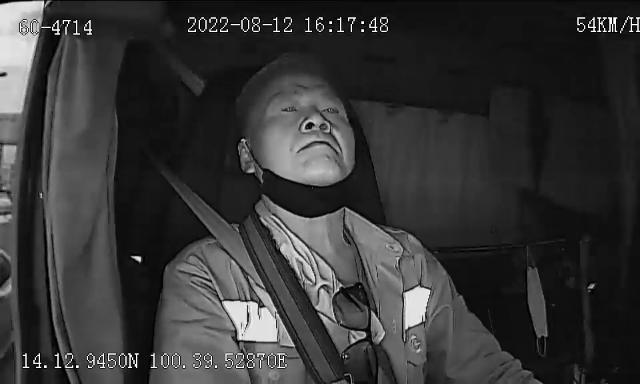SafeDriving: (270, 95, 306, 120)
Seatbelt: (147, 143, 317, 337)
